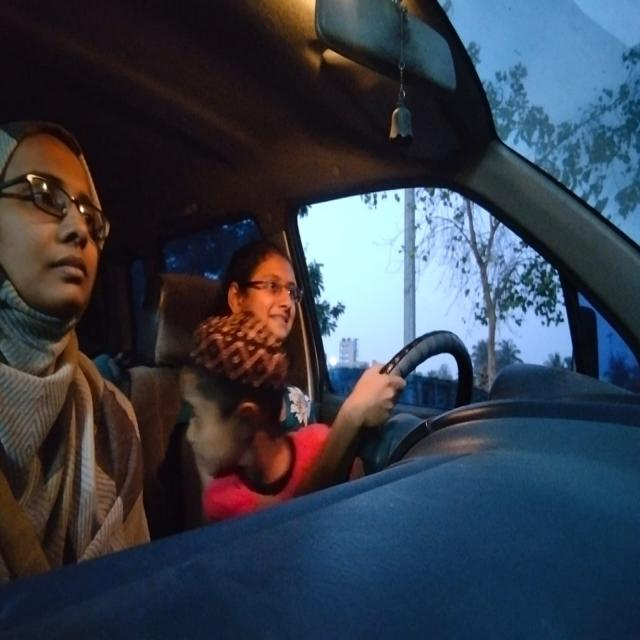child: (175, 322, 291, 471)
person: (3, 120, 108, 326), (227, 226, 305, 342)
